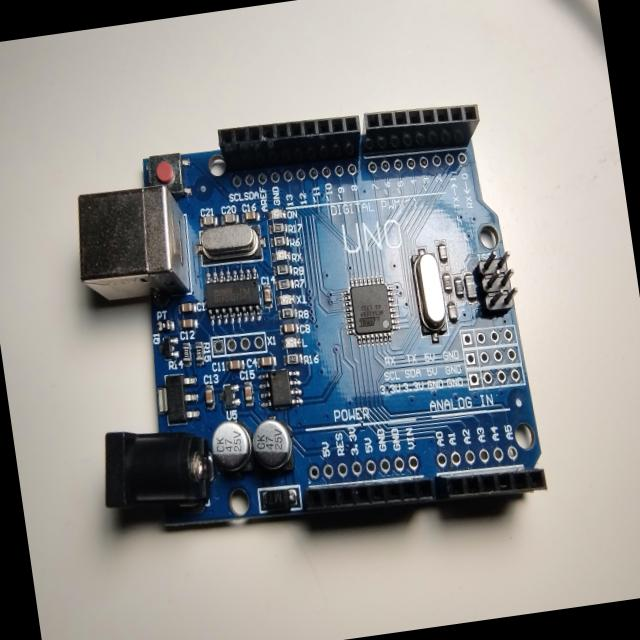arduino: (51, 76, 554, 587)
